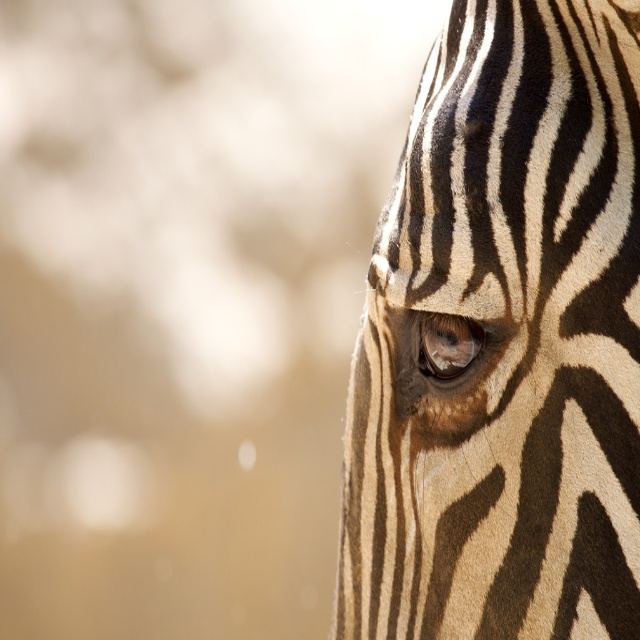Zebra: (327, 0, 640, 640)
